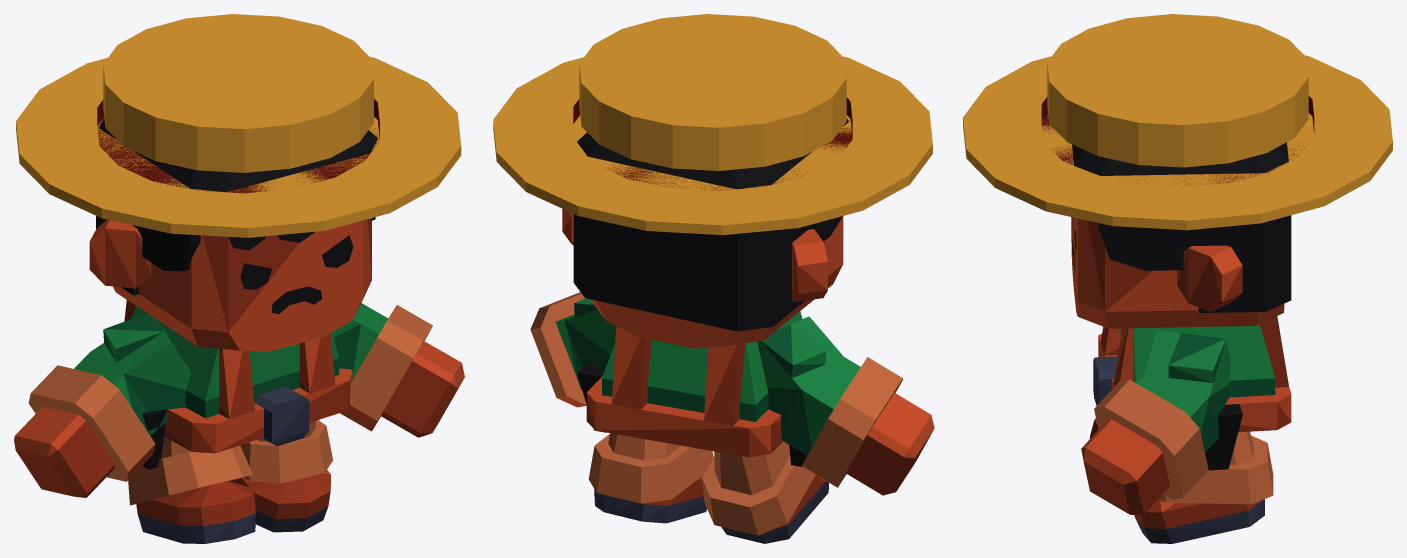
File: Boy_walk_7.obj
3 renders of one model, left to right at view 1: azimuth 30°, elevation 25°; view 2: azimuth 150°, elevation 25°; view 3: azimuth 270°, elevation 25°, orthographic. The views are drawn at different scales.
Parts seen in each view (by area): view 1: Boy; view 2: Boy; view 3: Boy.
Boxes of the visible parts, x1,y1,x2,y2 form: Boy: (14,14,464,543); Boy: (493,14,934,543); Boy: (963,14,1392,543).
Size of the model in its own units: 0.7134 by 0.7552 by 0.6654.
